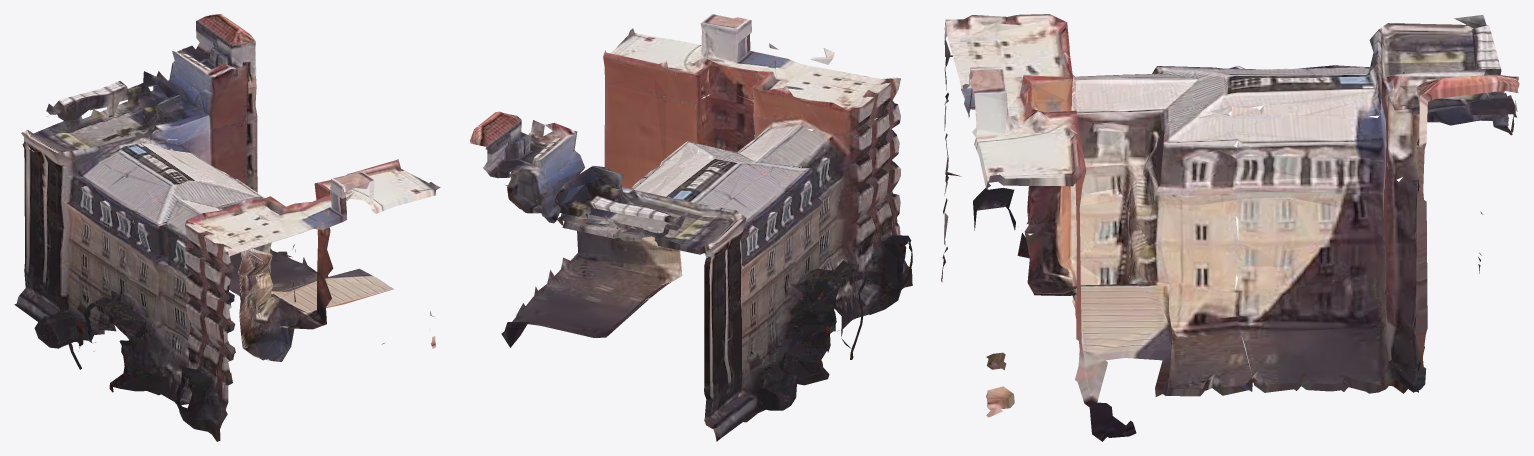
3 renders of one model, left to right at view 1: azimuth 30°, elevation 25°; view 2: azimuth 150°, elevation 25°; view 3: azimuth 270°, elevation 25°, orthographic. The views are drawn at different scales.
Parts seen in each view (by area): view 1: Mesh_0; view 2: Mesh_0; view 3: Mesh_0.
Part boxes in pixels (left/top/right/bottom): Mesh_0: left=14, top=14, right=440, bottom=441; Mesh_0: left=470, top=14, right=912, bottom=441; Mesh_0: left=941, top=14, right=1519, bottom=441.
Size of the model in its own units: 32.56 by 27.27 by 41.28.
Materials: 2 (2 with a texture image).
